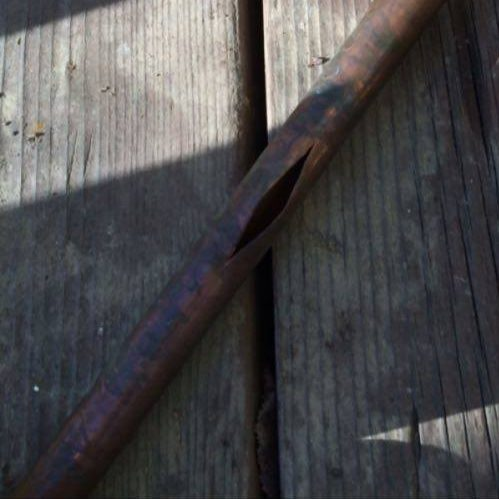crack: (218, 136, 317, 276)
